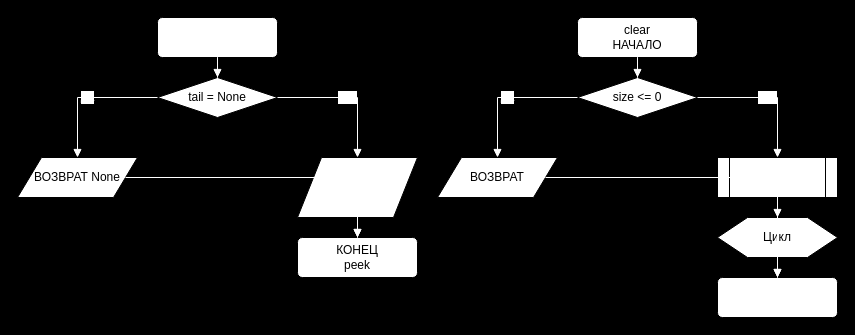
Image size: 855x335. Some labels were removed from this diagram. The shapes that lost their labels are listed below. From the top down, each one's centre as x and y in pixels, then its label:
[217,37]: peek НАЧАЛО
[357,187]: ВОЗВРАТ tail.next.data
[777,177]: dequeue()
[777,297]: КОНЕЦ clear
